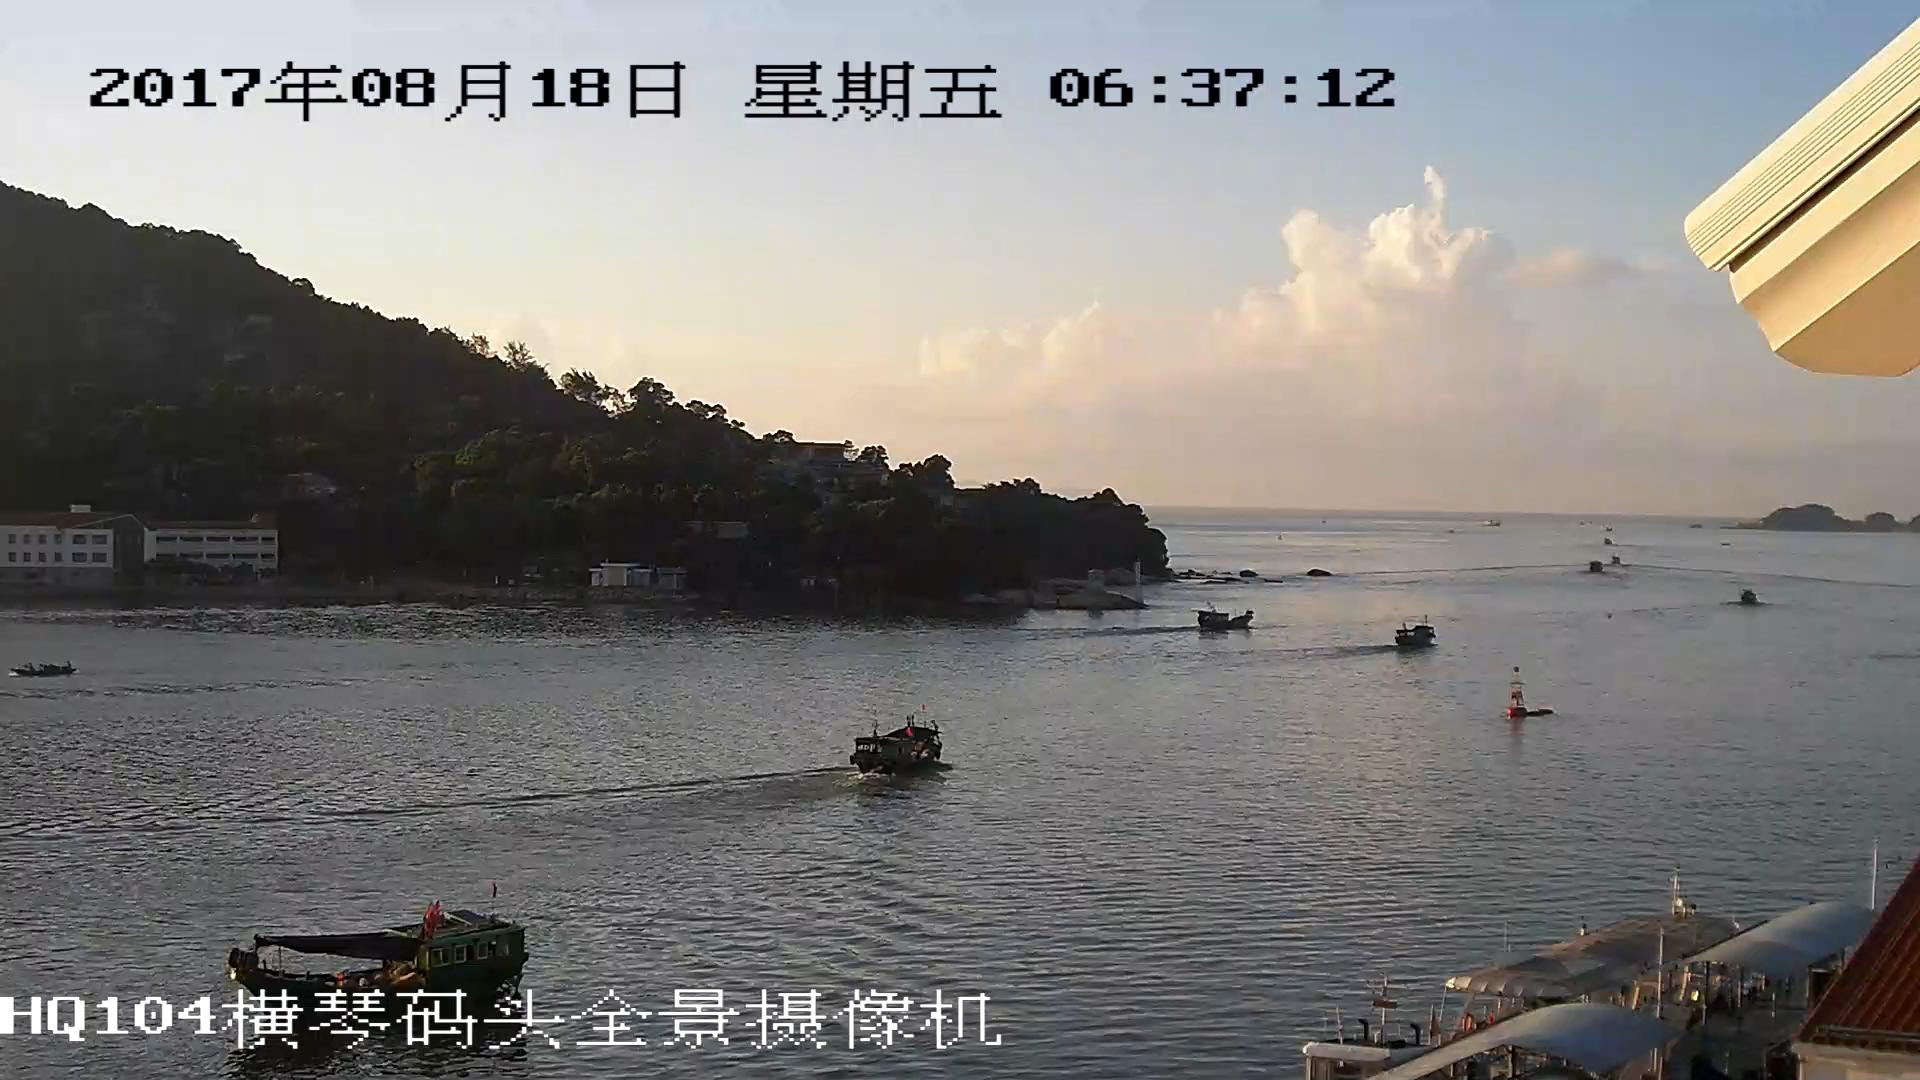fishing boat: (234, 926, 531, 990), (852, 724, 943, 772), (1188, 604, 1257, 633), (14, 658, 75, 679), (1391, 622, 1434, 647)
